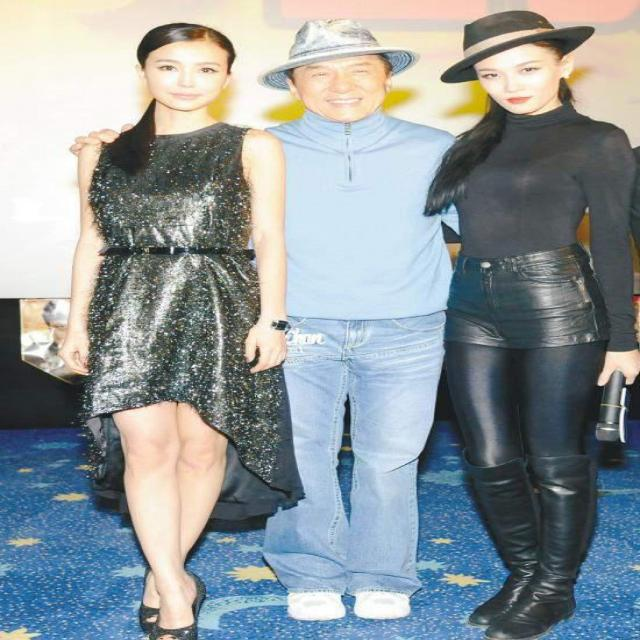Manusia: (235, 0, 477, 640), (408, 3, 640, 640), (36, 20, 270, 640)
